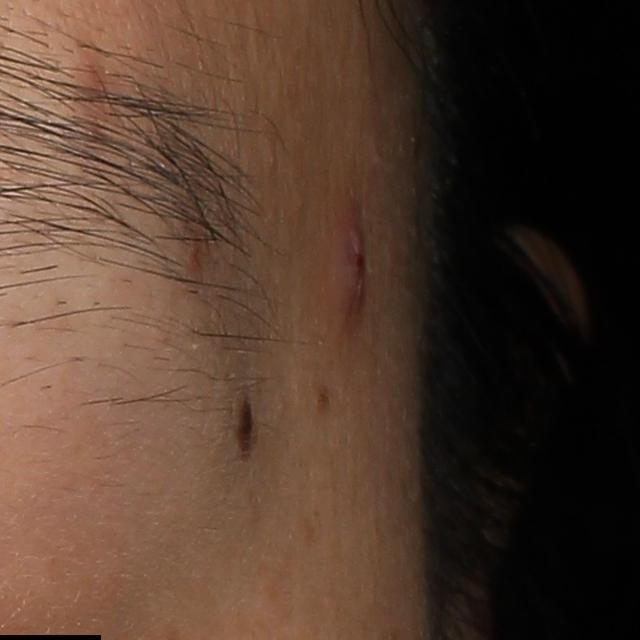nevus: (236, 400, 255, 452)
papule: (332, 208, 373, 323)
